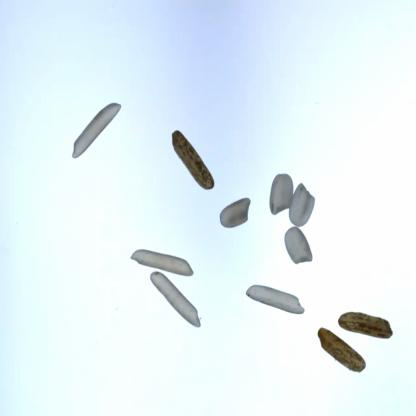Full: (149, 271, 202, 329), (71, 103, 121, 160), (171, 131, 215, 191), (317, 329, 366, 374), (245, 285, 306, 316), (130, 249, 194, 278), (338, 312, 393, 340), (288, 183, 318, 232), (280, 226, 315, 266), (266, 173, 293, 217), (219, 198, 252, 229)
